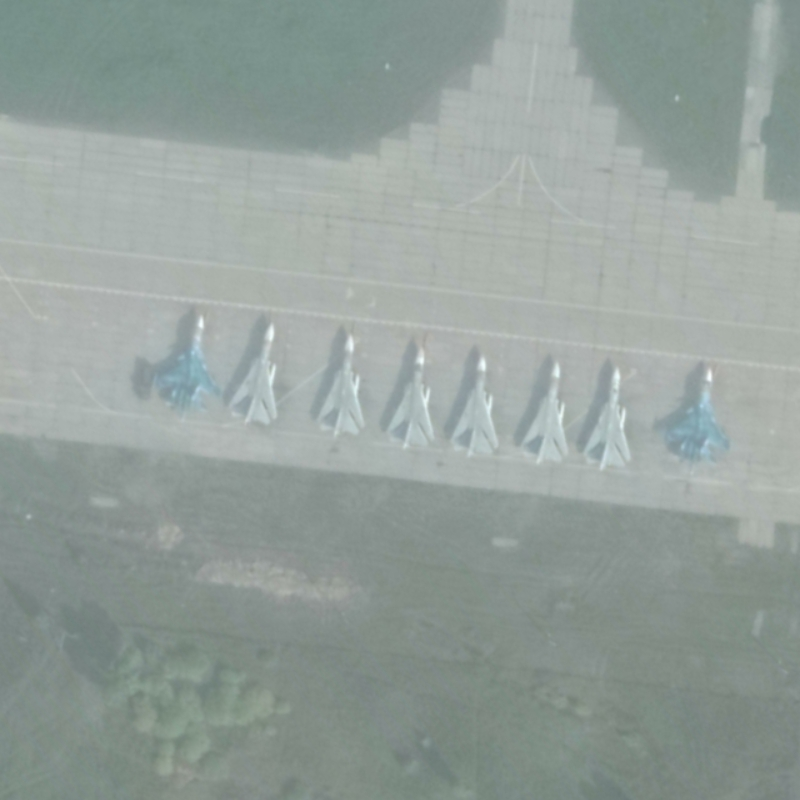A19: (143, 307, 225, 419), (650, 359, 733, 465)
A20: (515, 355, 574, 469), (444, 350, 504, 461), (578, 361, 637, 472), (380, 340, 437, 454), (226, 317, 282, 427), (314, 327, 367, 442)
